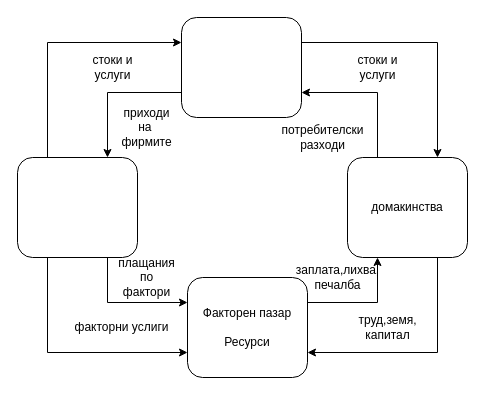
The diagram is 485 pixels wide and 395 high, and some of its shapes have lost their labels. Here are the shapes that lost their labels. From the top down, the centre of each, then its label:
At pixel 241 67: "продуктов пазар стоки и услуги".
At pixel 77 207: "фирми".
